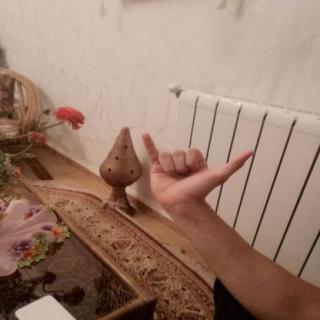YA: (127, 126, 265, 216)
